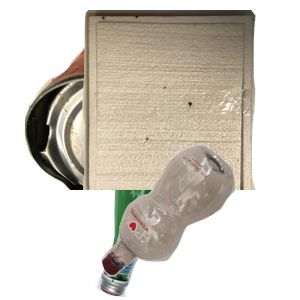glass: (93, 143, 284, 300)
metal: (22, 10, 251, 190)
plastic: (99, 142, 300, 300)
trash: (80, 10, 300, 190)
